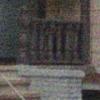stairs: (0, 61, 41, 100)
